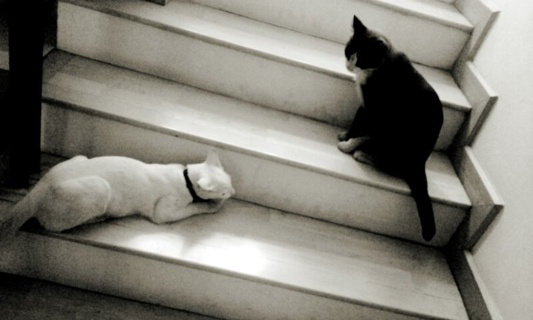Cat: (336, 14, 446, 242), (0, 147, 234, 248)
